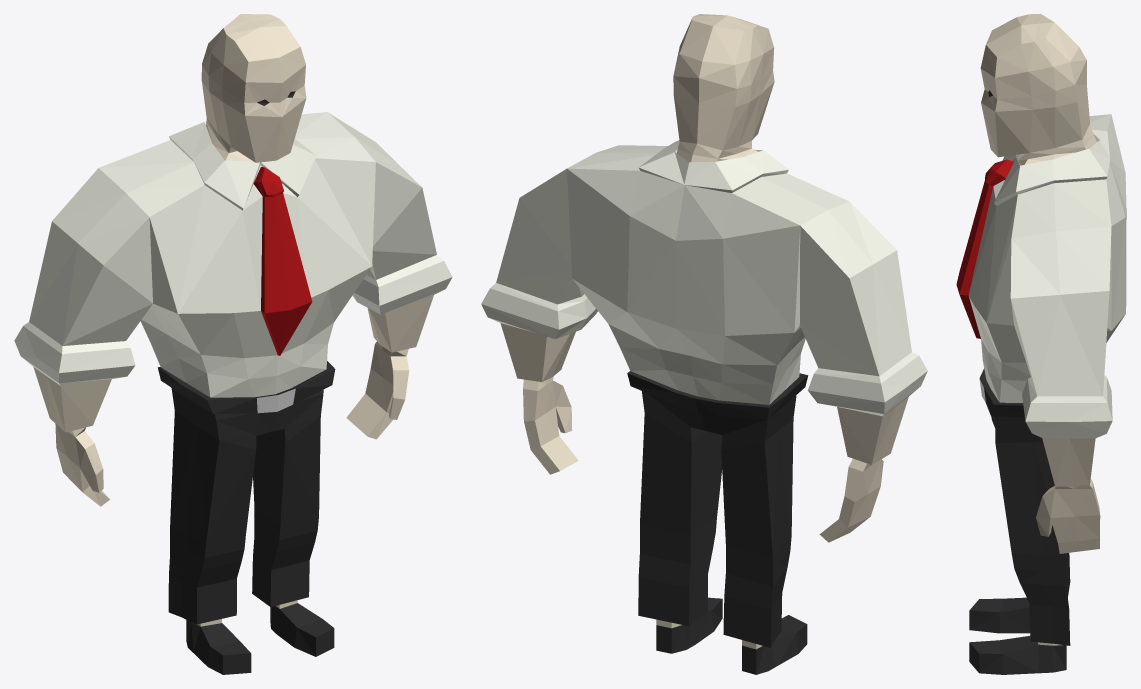
File: BigMan.obj
3 renders of one model, left to right at view 1: azimuth 30°, elevation 25°; view 2: azimuth 150°, elevation 25°; view 3: azimuth 270°, elevation 25°, orthographic.
Parts seen in each view (by area): view 1: Male_Cube.001; view 2: Male_Cube.001; view 3: Male_Cube.001.
Boxes of the visible parts, x1,y1,x2,y2 form: Male_Cube.001: (14,14,452,674); Male_Cube.001: (481,14,927,674); Male_Cube.001: (956,14,1126,674).
Size of the model in its own units: 1.23 by 1.84 by 0.4553.
Materials: 1 (1 with a texture image).
